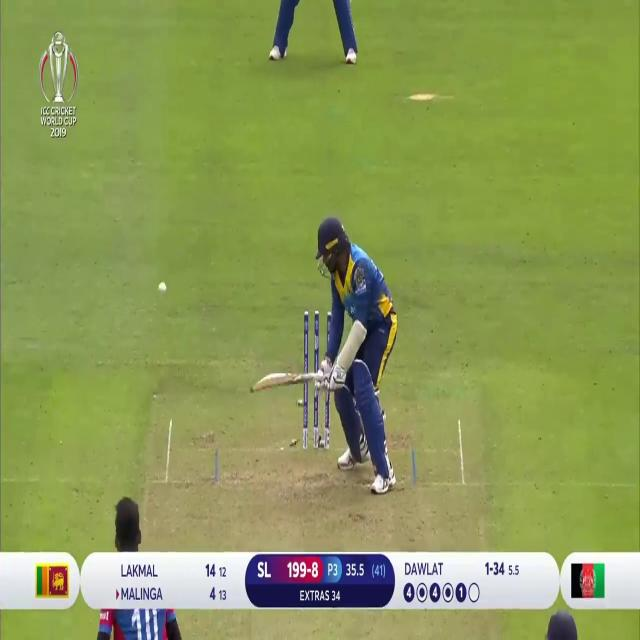ball: (156, 280, 170, 299)
